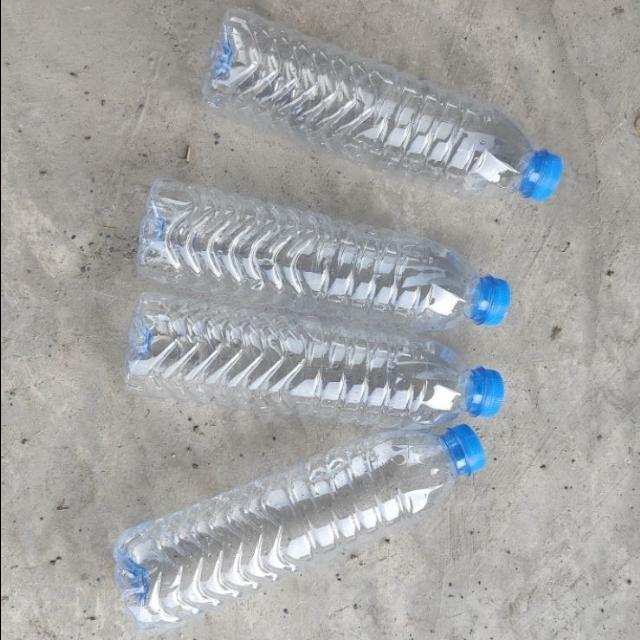PET Bottle: (192, 0, 633, 202), (56, 426, 512, 614), (117, 175, 519, 340), (106, 290, 520, 429)
